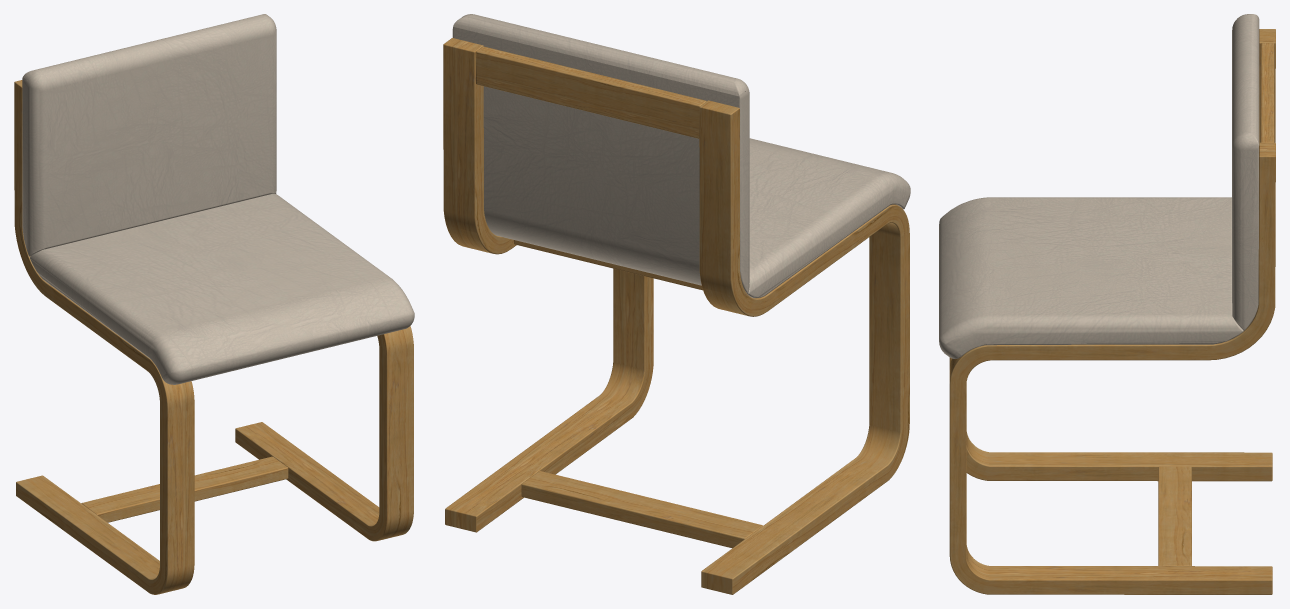
The model's file is zidle_01.gltf.
3 renders of one model, left to right at view 1: azimuth 30°, elevation 25°; view 2: azimuth 150°, elevation 25°; view 3: azimuth 270°, elevation 25°, orthographic. The views are drawn at different scales.
Visible parts, largest first — view 1: Mesh17 Group3 Group2 Model, Mesh20 Group4 Group2 Model, Mesh53 zidle_01_noha2 Model.001, Mesh53 zidle_01_noha2 Model, Mesh69 zidle_01_pricka4 Model; view 2: Mesh23 Group5 Model, Mesh53 zidle_01_noha2 Model.001, Mesh53 zidle_01_noha2 Model, Mesh20 Group4 Group2 Model, Mesh17 Group3 Group2 Model, Mesh65 zidle_01_pricka3 Model, Mesh69 zidle_01_pricka4 Model, Mesh49 zidle_01_pricka2 Model; view 3: Mesh20 Group4 Group2 Model, Mesh53 zidle_01_noha2 Model, Mesh53 zidle_01_noha2 Model.001, Mesh17 Group3 Group2 Model, Mesh69 zidle_01_pricka4 Model, Mesh65 zidle_01_pricka3 Model.
Part boxes in pixels (x1=…): Mesh17 Group3 Group2 Model: x1=22, y1=14, x2=276, y2=256; Mesh20 Group4 Group2 Model: x1=30, y1=193, x2=414, y2=384; Mesh53 zidle_01_noha2 Model.001: x1=14, y1=80, x2=194, y2=594; Mesh53 zidle_01_noha2 Model: x1=235, y1=326, x2=413, y2=541; Mesh69 zidle_01_pricka4 Model: x1=81, y1=456, x2=288, y2=522; Mesh23 Group5 Model: x1=483, y1=86, x2=754, y2=298; Mesh53 zidle_01_noha2 Model.001: x1=699, y1=100, x2=909, y2=594; Mesh53 zidle_01_noha2 Model: x1=443, y1=38, x2=653, y2=532; Mesh20 Group4 Group2 Model: x1=747, y1=138, x2=910, y2=297; Mesh17 Group3 Group2 Model: x1=452, y1=14, x2=749, y2=293; Mesh65 zidle_01_pricka3 Model: x1=476, y1=46, x2=706, y2=138; Mesh69 zidle_01_pricka4 Model: x1=521, y1=471, x2=762, y2=548; Mesh49 zidle_01_pricka2 Model: x1=514, y1=240, x2=702, y2=290; Mesh20 Group4 Group2 Model: x1=939, y1=197, x2=1243, y2=358; Mesh53 zidle_01_noha2 Model: x1=949, y1=142, x2=1275, y2=594; Mesh53 zidle_01_noha2 Model.001: x1=949, y1=29, x2=1275, y2=481; Mesh17 Group3 Group2 Model: x1=1232, y1=14, x2=1259, y2=330; Mesh69 zidle_01_pricka4 Model: x1=1158, y1=466, x2=1191, y2=565; Mesh65 zidle_01_pricka3 Model: x1=1260, y1=43, x2=1274, y2=142.
Bounding box in the file's own units: 0.4508 × 0.751 × 0.5008.
Materials: 4 (3 with a texture image).
